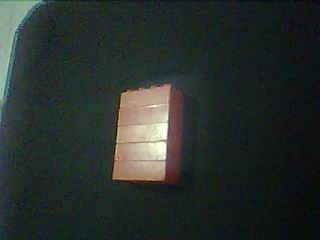lego: (109, 82, 187, 182)
